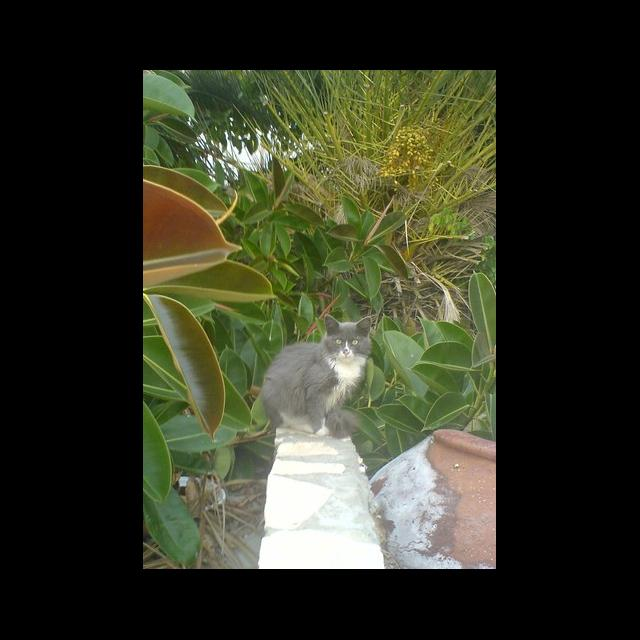animals: (260, 313, 372, 440)
